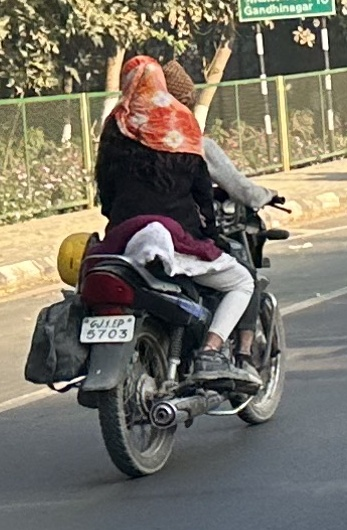BikeWithRider: (16, 47, 298, 485)
NoHelmet: (111, 50, 173, 115), (148, 53, 205, 113)
